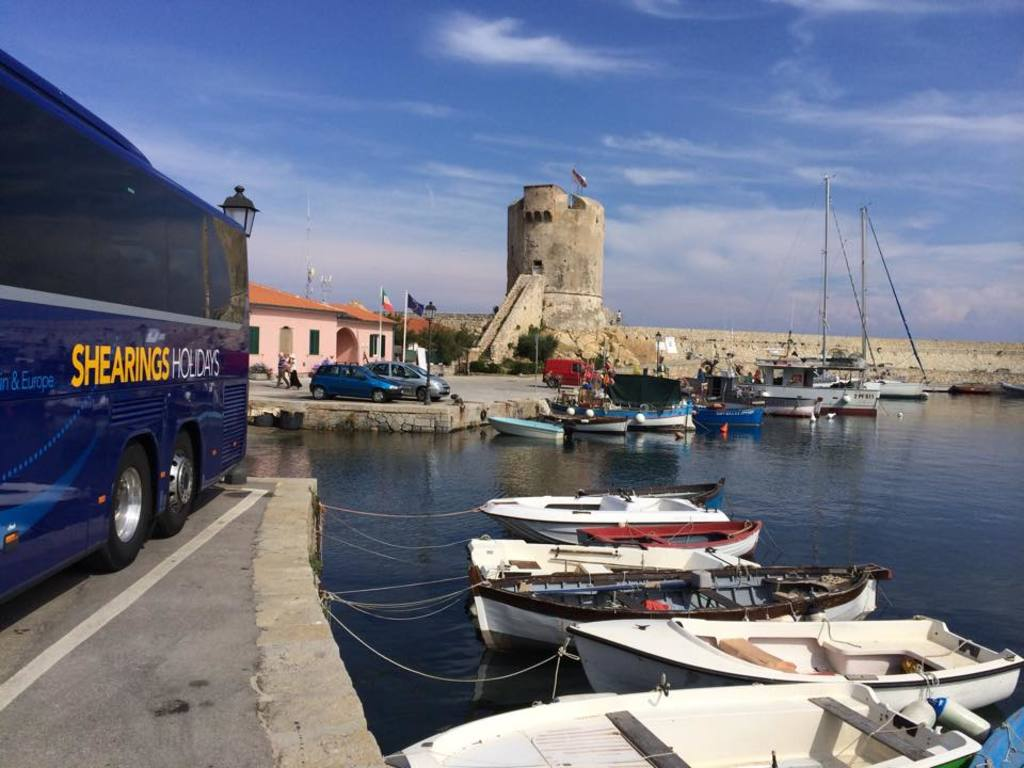Bus: (0, 46, 251, 602)
